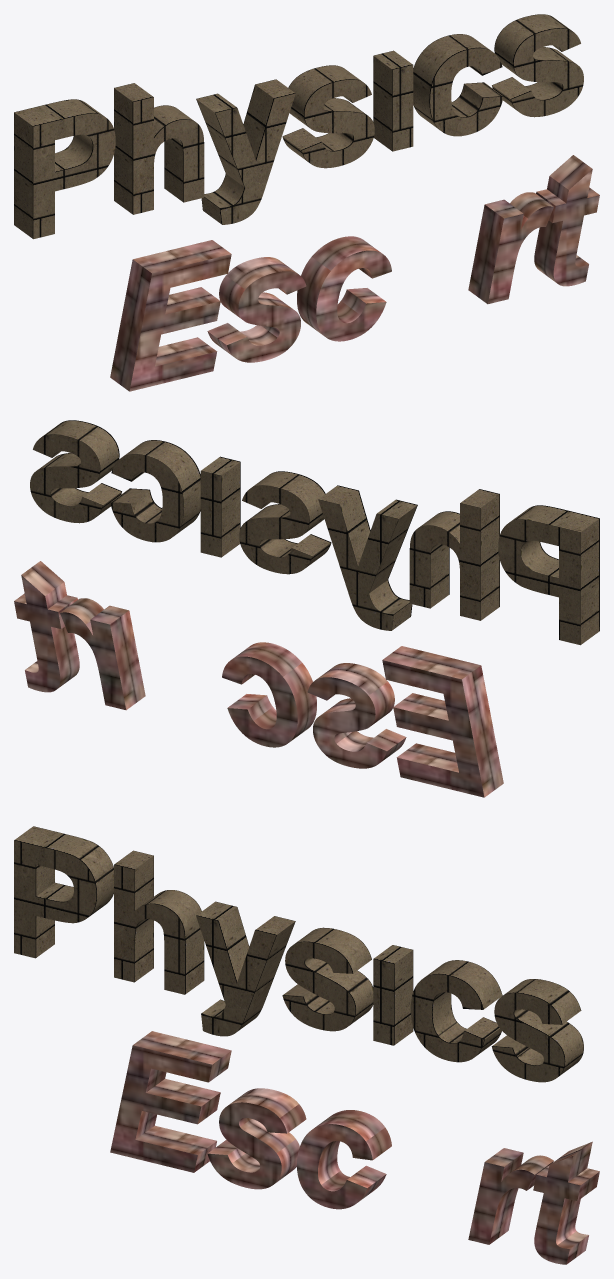
File: title.FBX
The picture shows the model from 3 angles, top to bottom: view 1: azimuth 30°, elevation 25°; view 2: azimuth 150°, elevation 25°; view 3: azimuth 330°, elevation 25°; orthographic projection.
Parts seen in each view (by area): view 1: physics, 对象002, 对象003; view 2: physics, 对象002, 对象003; view 3: physics, 对象002, 对象003.
Boxes of the visible parts, left/top/right/bottom form: physics: left=14, top=14, right=583, bottom=239; 对象002: left=110, top=236, right=391, bottom=391; 对象003: left=468, top=155, right=599, bottom=304; physics: left=30, top=420, right=599, bottom=645; 对象002: left=222, top=642, right=503, bottom=797; 对象003: left=14, top=561, right=145, bottom=710; physics: left=14, top=826, right=583, bottom=1082; 对象002: left=110, top=1031, right=391, bottom=1209; 对象003: left=468, top=1141, right=599, bottom=1264.
Bounding box in the file's own units: 84.27 × 41.32 × 5.
Materials: 2 (2 with a texture image).
